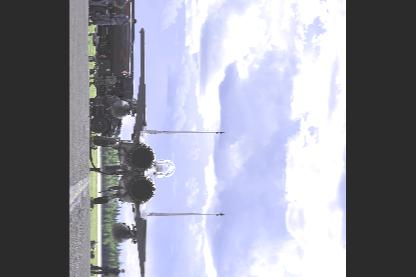F117: (90, 26, 226, 276)
